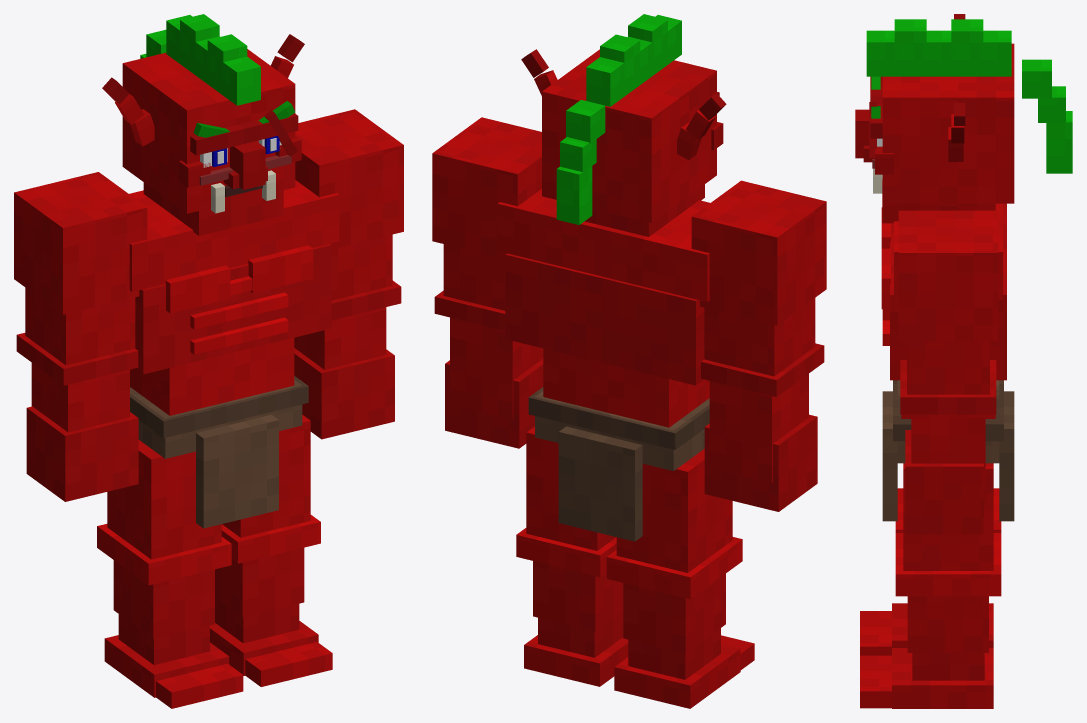
The model's file is hobgoblin_s2.glb.
3 views of the same model, side by side, from view 1: azimuth 30°, elevation 25°; view 2: azimuth 150°, elevation 25°; view 3: azimuth 270°, elevation 25° (orthographic). The views are drawn at different scales.
Visible parts, largest first — view 1: Torso, ArmR, Head, ArmL, LegR, LegL; view 2: Torso, ArmR, Head, ArmL, LegR, LegL; view 3: Head, ArmL, LegL, Torso, LegR.
Part boxes in pixels (x1=…): Torso: x1=129, y1=180, x2=339, y2=528; ArmR: x1=14, y1=172, x2=147, y2=501; Head: x1=102, y1=14, x2=304, y2=235; ArmL: x1=294, y1=109, x2=403, y2=439; LegR: x1=97, y1=440, x2=243, y2=708; LegL: x1=210, y1=415, x2=332, y2=686; Torso: x1=497, y1=189, x2=709, y2=541; ArmR: x1=691, y1=180, x2=826, y2=511; Head: x1=521, y1=14, x2=726, y2=236; ArmL: x1=432, y1=117, x2=543, y2=448; LegR: x1=606, y1=449, x2=754, y2=708; LegL: x1=516, y1=426, x2=628, y2=686; Head: x1=855, y1=14, x2=1072, y2=223; ArmL: x1=898, y1=210, x2=998, y2=534; LegL: x1=860, y1=463, x2=1001, y2=708; Torso: x1=881, y1=203, x2=1014, y2=521; LegR: x1=860, y1=488, x2=1001, y2=655.
Bounding box in the file's own units: 1.07 × 1.88 × 0.5775.
26 materials, 26 textured.
